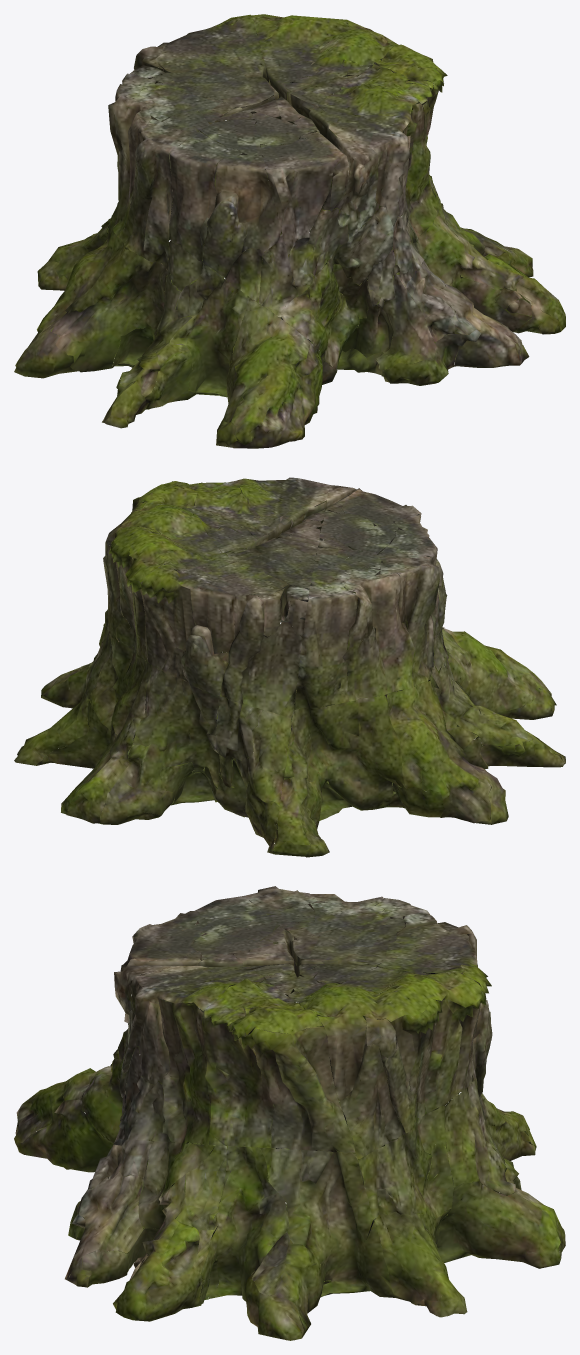
Rendered from stump.glb.
3 views of the same model, one above another, from view 1: azimuth 30°, elevation 25°; view 2: azimuth 150°, elevation 25°; view 3: azimuth 270°, elevation 25° (orthographic). The views are drawn at different scales.
Parts seen in each view (by area): view 1: stump; view 2: stump; view 3: stump.
Part boxes in pixels (left/top/right/bottom): stump: left=14, top=14, right=565, bottom=448; stump: left=14, top=477, right=565, bottom=857; stump: left=14, top=886, right=565, bottom=1340.
Bounding box in the file's own units: 1.27 × 0.598 × 1.11.
Materials: 1 (1 with a texture image).
